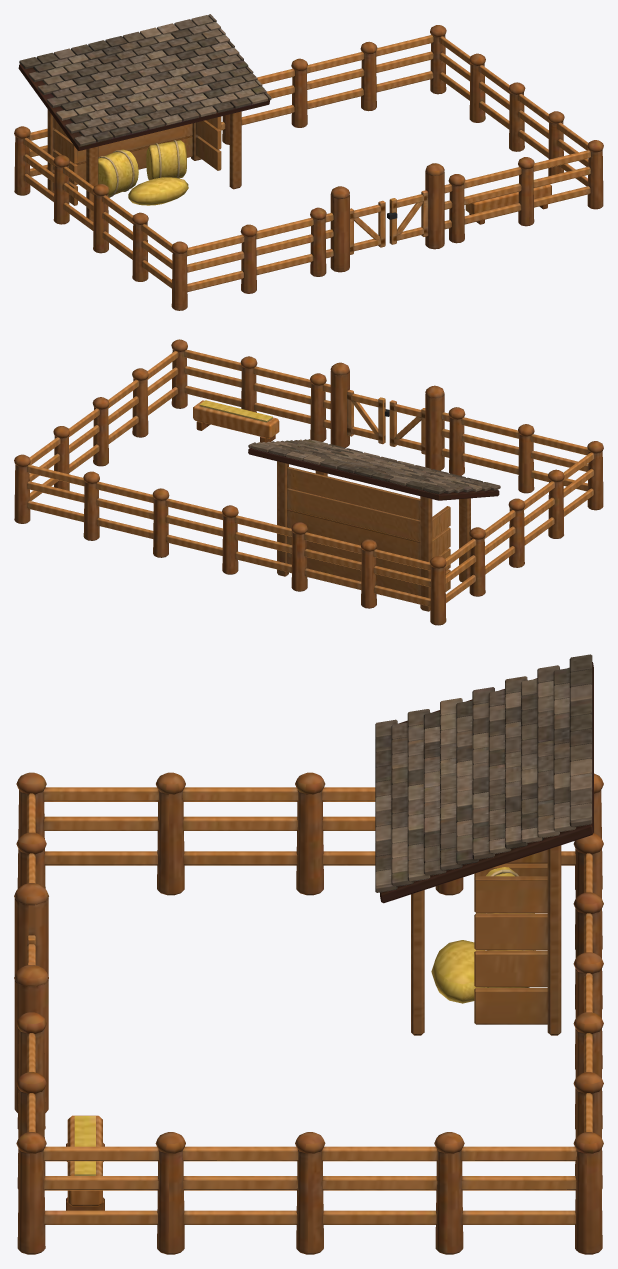
File: swiss_pasture.glb
The picture shows the model from 3 angles, top to bottom: view 1: azimuth 30°, elevation 25°; view 2: azimuth 150°, elevation 25°; view 3: azimuth 270°, elevation 25°; orthographic projection. The views are drawn at different scales.
Parts seen in each view (by area): view 1: swiss_pasture, gate1, gate0; view 2: swiss_pasture, gate1, gate0; view 3: swiss_pasture.
Boxes of the visible parts, bbox=[...] form: swiss_pasture: bbox=[14, 14, 603, 310]; gate1: bbox=[387, 190, 428, 244]; gate0: bbox=[350, 200, 385, 254]; swiss_pasture: bbox=[14, 339, 603, 625]; gate1: bbox=[347, 389, 389, 444]; gate0: bbox=[389, 400, 425, 454]; swiss_pasture: bbox=[14, 654, 603, 1254].
Size of the model in its own units: 3 by 0.9343 by 2.01.
Materials: 1 (1 with a texture image).
